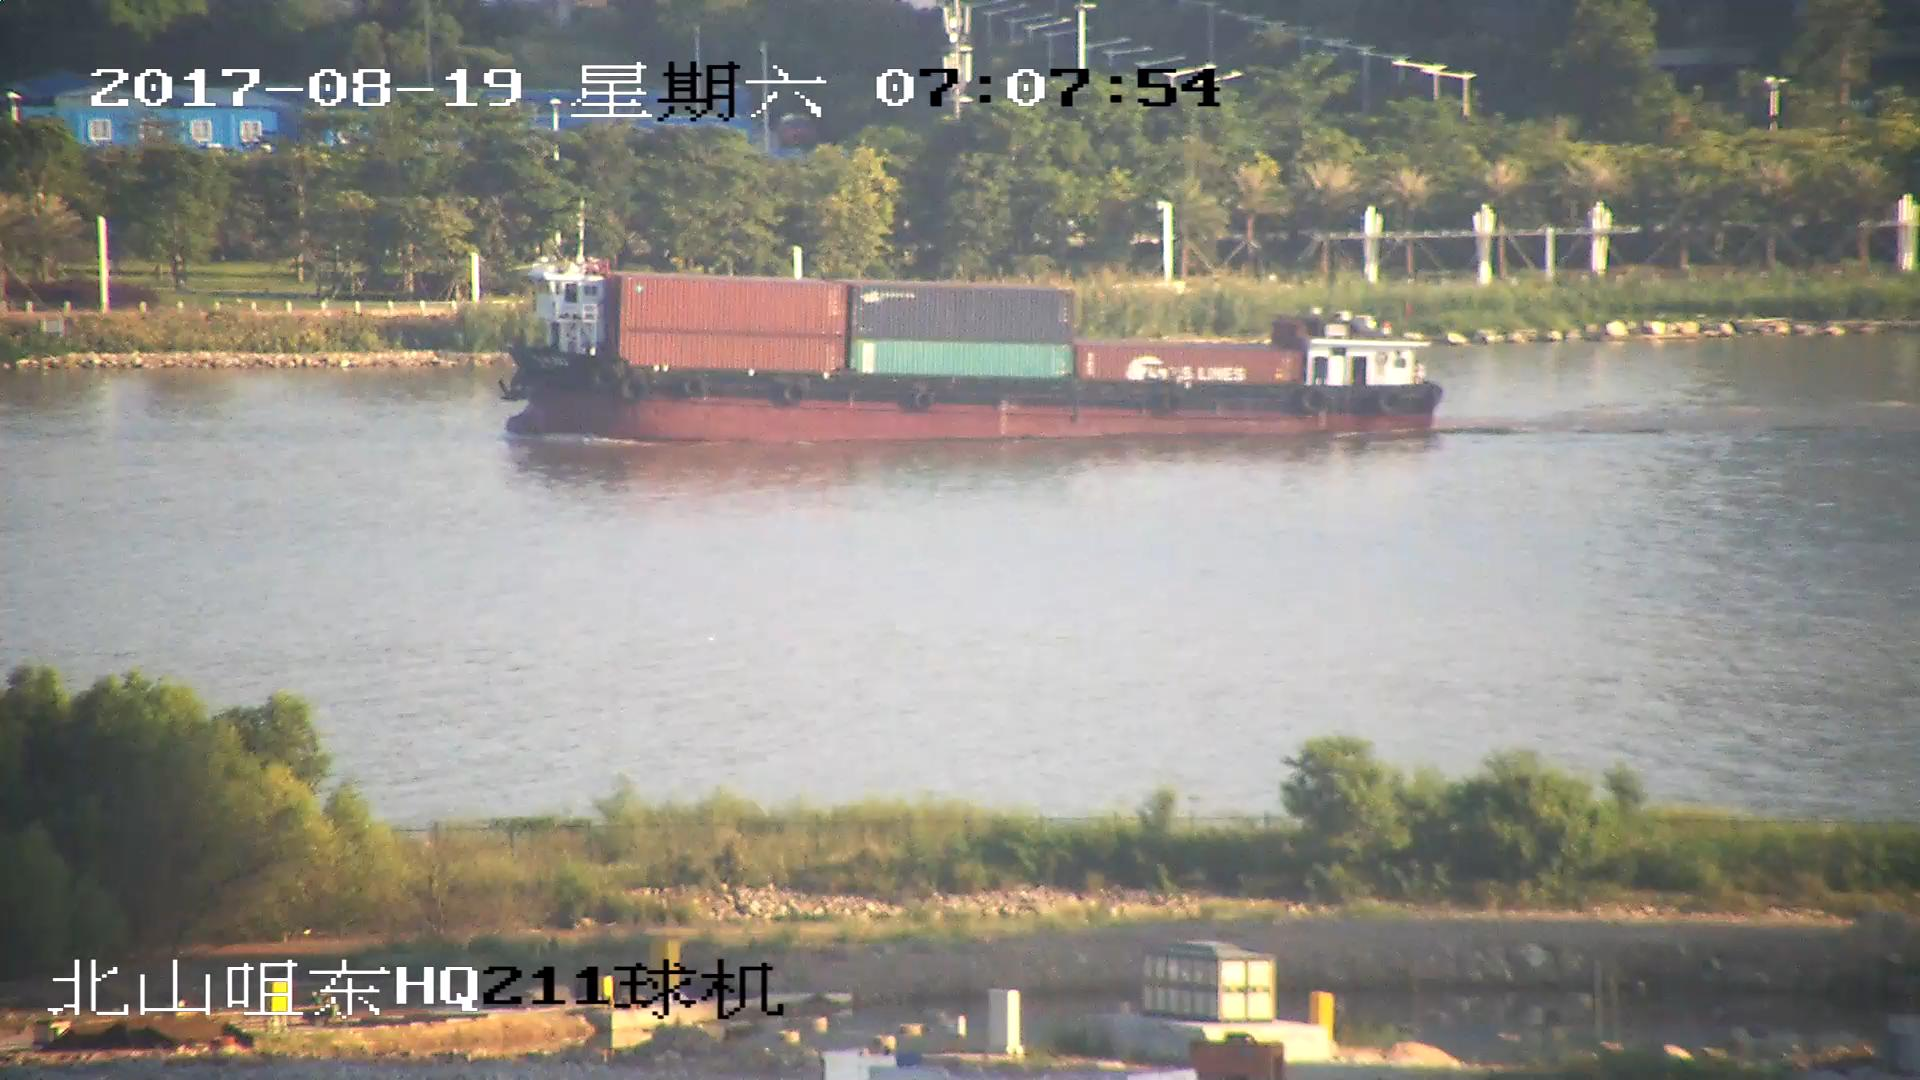container ship: (484, 248, 1442, 459)
